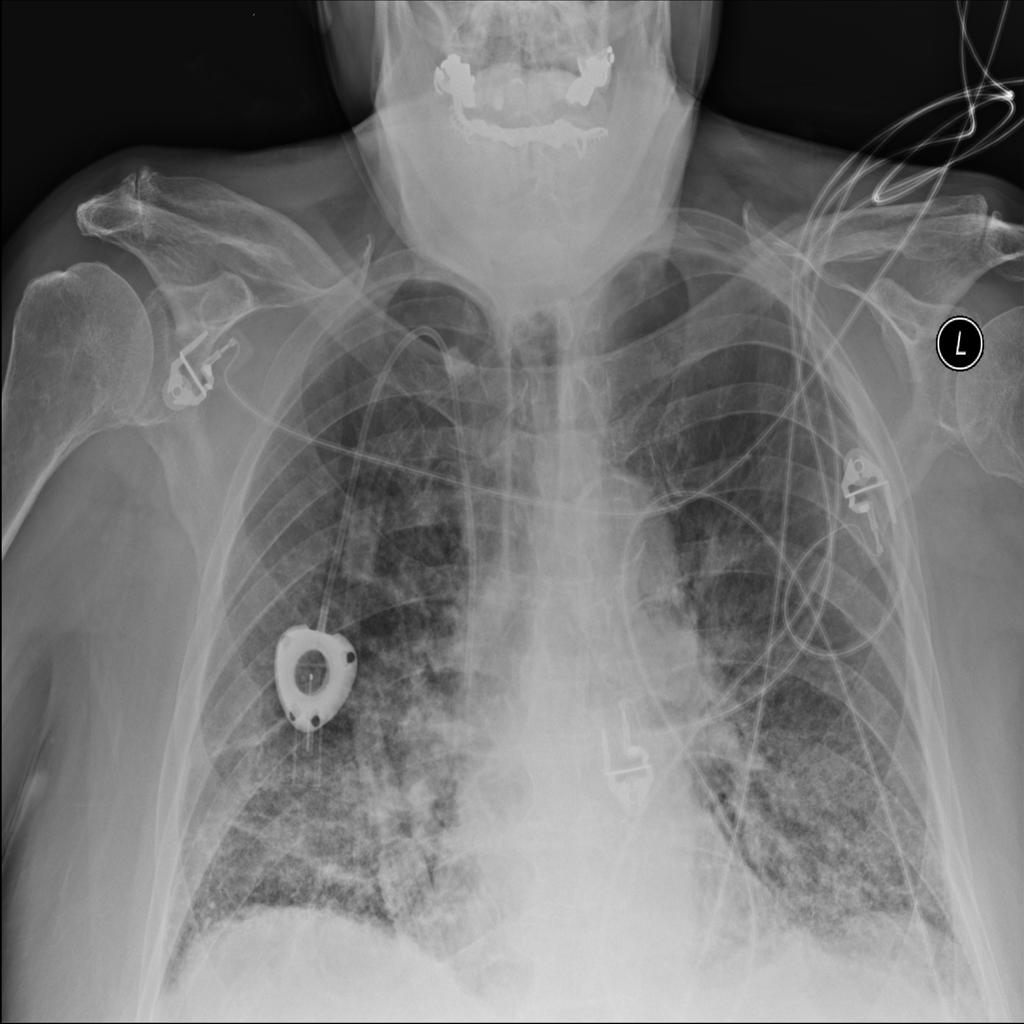nodule: (266, 609, 368, 731), (11, 743, 68, 826), (432, 339, 482, 391)
